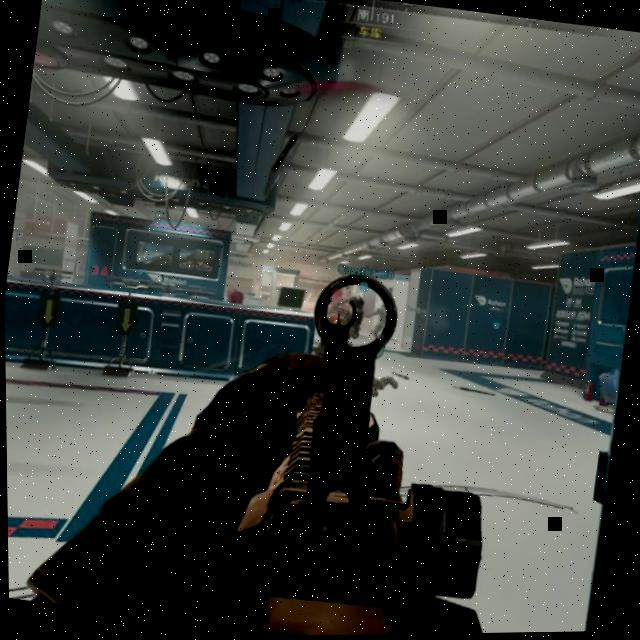MW2_body: (362, 303, 386, 339)
